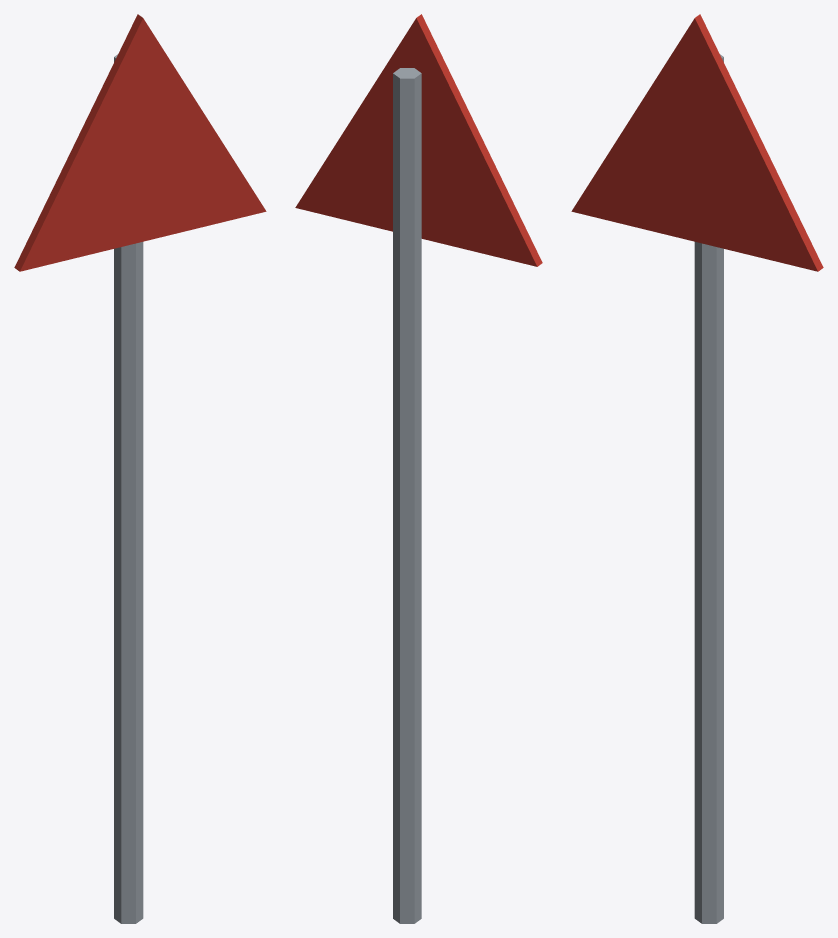
File: Sign_Yield.glb
3 views of the same model, side by side, from view 1: azimuth 30°, elevation 25°; view 2: azimuth 150°, elevation 25°; view 3: azimuth 330°, elevation 25° (orthographic).
Visible parts, largest first — view 1: Sign_Yield_Face, Sign_Yield_Metal; view 2: Sign_Yield_Metal, Sign_Yield_Face; view 3: Sign_Yield_Face, Sign_Yield_Metal.
Boxes of the visible parts, <box> form: Sign_Yield_Face: <box>14,14,266,271</box>; Sign_Yield_Metal: <box>114,54,143,923</box>; Sign_Yield_Metal: <box>393,68,421,923</box>; Sign_Yield_Face: <box>295,14,542,266</box>; Sign_Yield_Face: <box>571,14,823,271</box>; Sign_Yield_Metal: <box>694,54,723,923</box>.
Size of the model in its own units: 0.7794 by 2.75 by 0.12.
